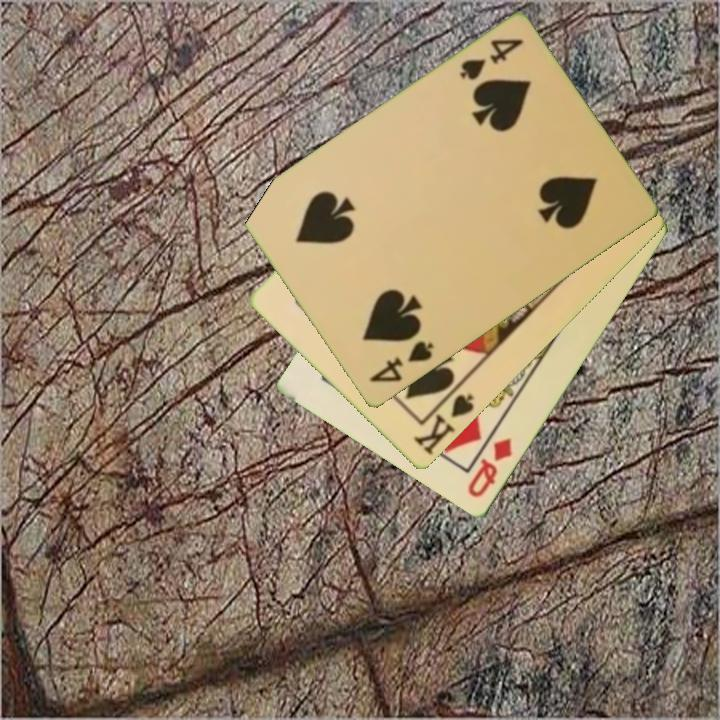4s: (365, 337, 437, 386), (455, 35, 526, 84)
Ks: (410, 391, 477, 459)
Qd: (464, 434, 515, 501)
